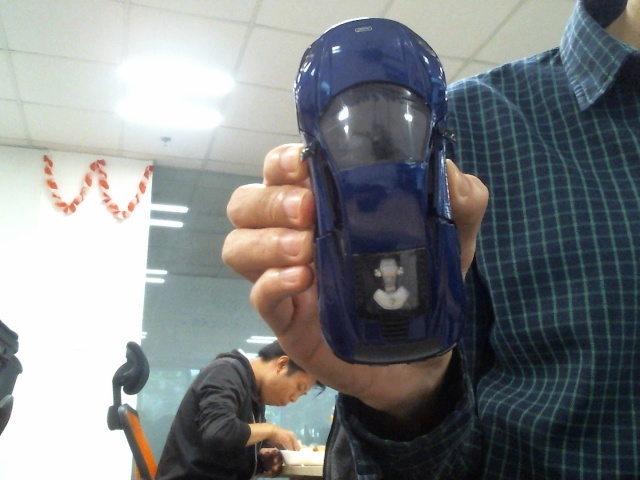car: (293, 16, 467, 366)
